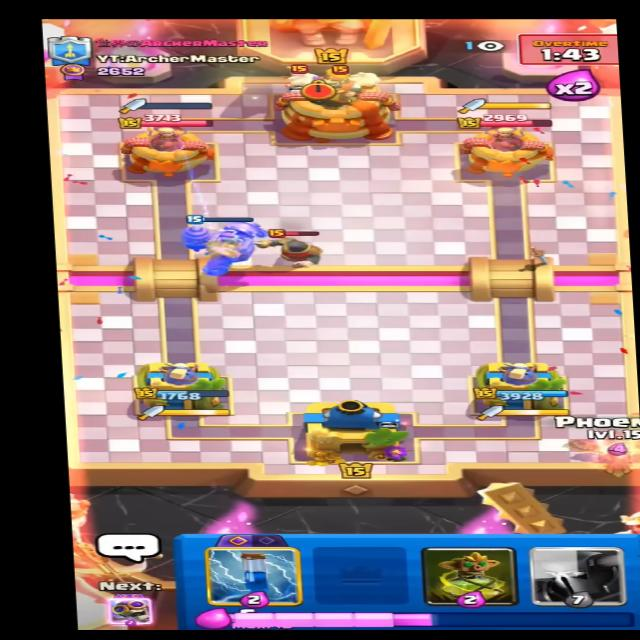knight: (261, 225, 333, 266)
